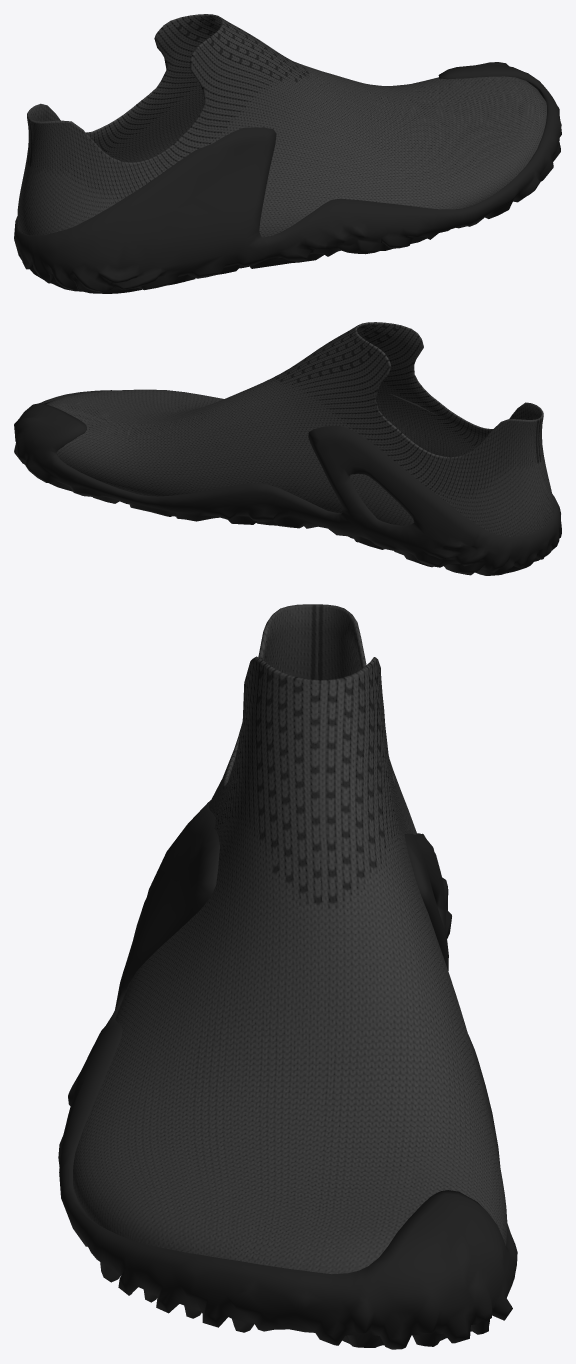
File: WingBlack.glb
3 renders of one model, top to bottom at view 1: azimuth 30°, elevation 25°; view 2: azimuth 150°, elevation 25°; view 3: azimuth 270°, elevation 25°, orthographic. The views are drawn at different scales.
Visible parts, largest first — view 1: Wing_Low; view 2: Wing_Low; view 3: Wing_Low.
Boxes of the visible parts, <box> form: Wing_Low: <box>14,14,561,293</box>; Wing_Low: <box>14,322,561,575</box>; Wing_Low: <box>58,604,517,1349</box>.
Bounding box in the file's own units: 0.498 × 0.192 × 0.1946.
Materials: 1 (1 with a texture image).
